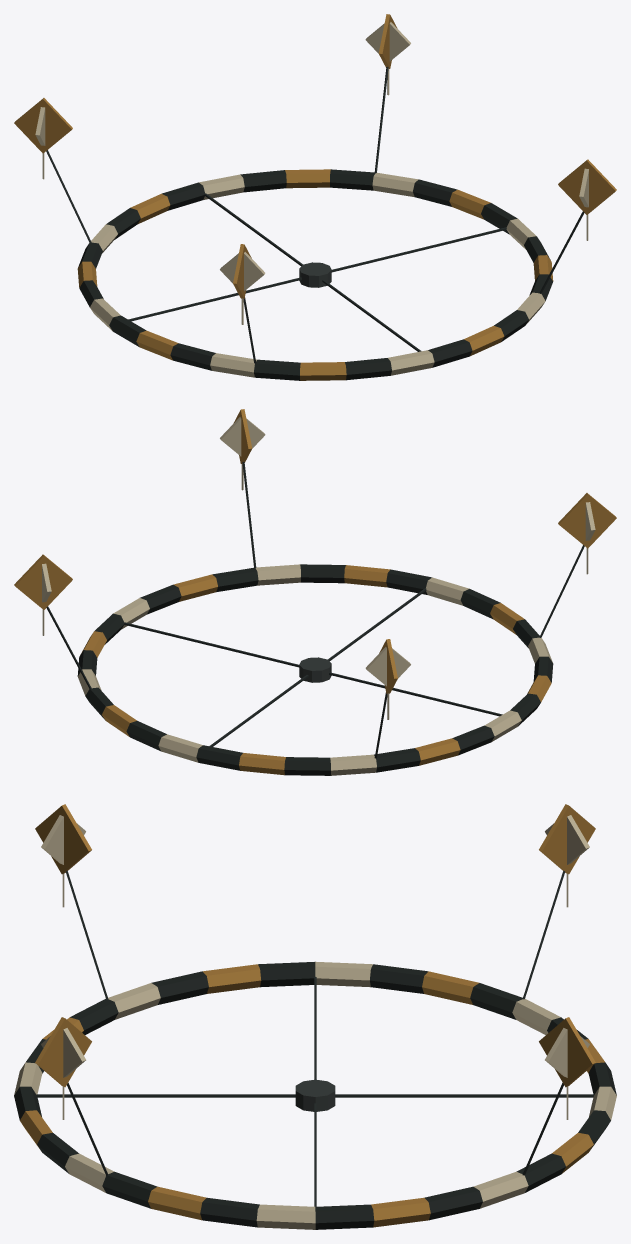
Rendered from w3_kite_ring.glb.
3 views of the same model, one above another, from view 1: azimuth 30°, elevation 25°; view 2: azimuth 150°, elevation 25°; view 3: azimuth 270°, elevation 25° (orthographic). The views are drawn at different scales.
Visible parts, largest first — view 1: KiteRing; view 2: KiteRing; view 3: KiteRing.
Boxes of the visible parts, bbox=[...] form: KiteRing: bbox=[14, 14, 616, 380]; KiteRing: bbox=[14, 409, 616, 775]; KiteRing: bbox=[14, 804, 616, 1229].
Bounding box in the file's own units: 14.56 × 5.16 × 14.56.
